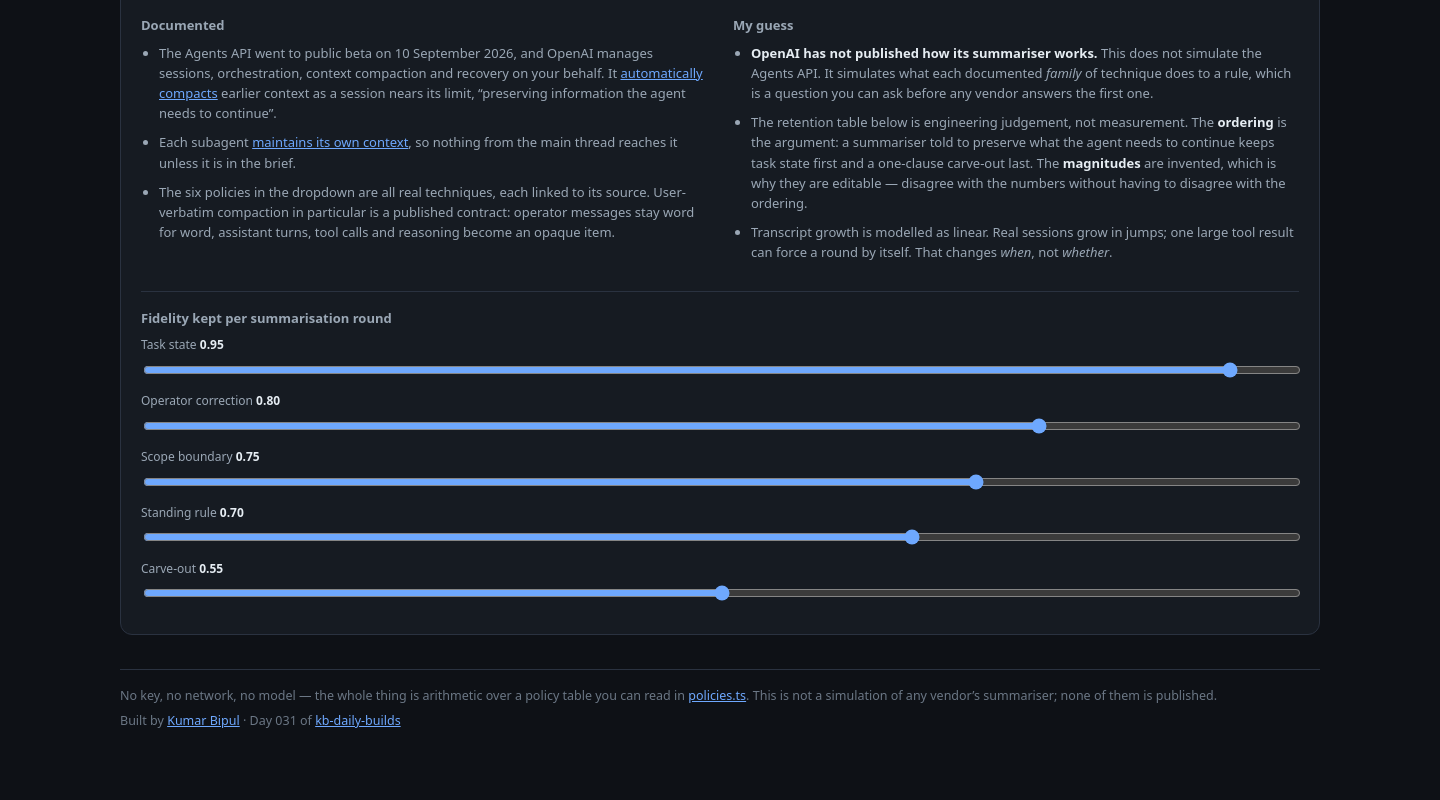
Scenario: App › lets the reader edit the retention assumptions
The width and height of the screenshot is (1440, 800).
(page scrolled)
Set the slider named "retention for carve-out" to "0.95" at (1230, 593), box [143, 585, 1301, 601]
(page scrolled)
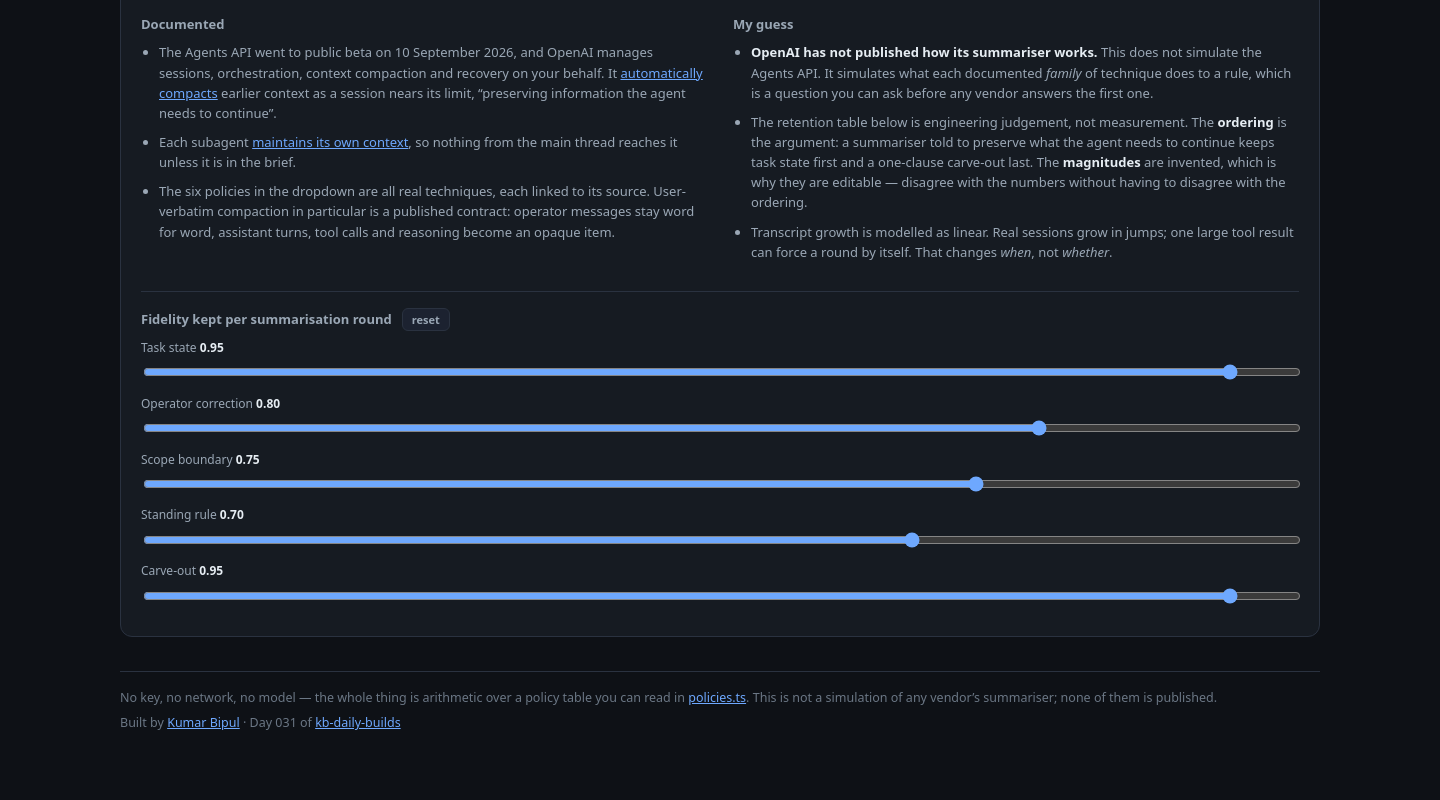
Result: the button "reset" is shown at [402, 308, 450, 331]
